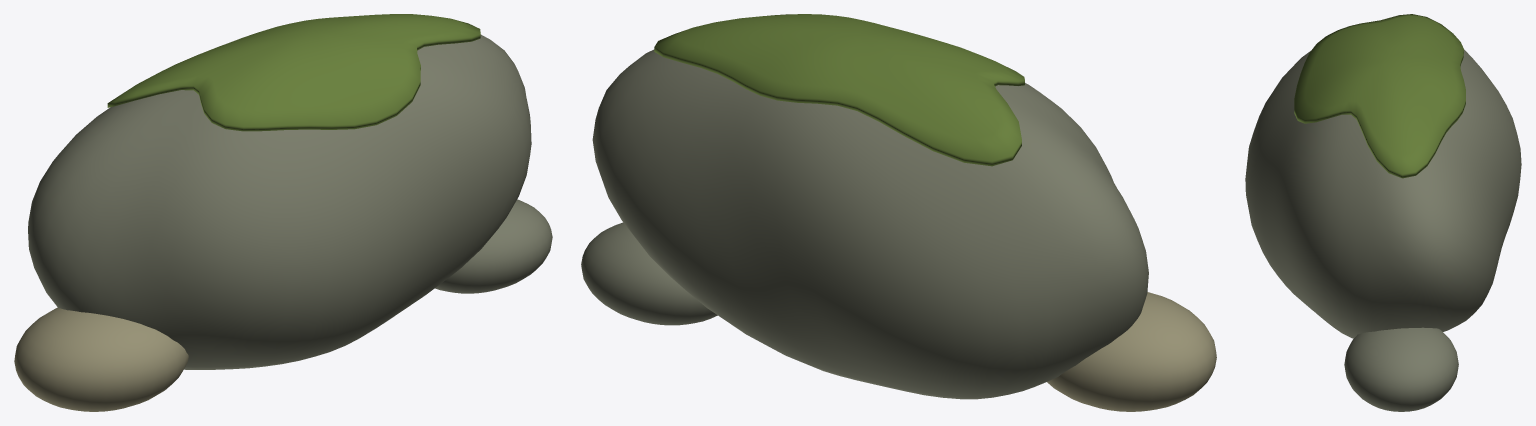
File: shore_rock.glb
3 views of the same model, side by side, from view 1: azimuth 30°, elevation 25°; view 2: azimuth 150°, elevation 25°; view 3: azimuth 270°, elevation 25° (orthographic). The views are drawn at different scales.
Visible parts, largest first — view 1: Stone, MossCap, Pebble_Left, Pebble_Right; view 2: Stone, MossCap, Pebble_Left, Pebble_Right; view 3: Stone, MossCap, Pebble_Right.
Part boxes in pixels (box(x1,y1,x2,y2)): Stone: box(28, 34, 531, 369); MossCap: box(107, 14, 480, 131); Pebble_Left: box(14, 307, 188, 411); Pebble_Right: box(435, 199, 552, 293); Stone: box(592, 49, 1148, 399); MossCap: box(654, 14, 1024, 166); Pebble_Left: box(1047, 292, 1216, 411); Pebble_Right: box(581, 222, 717, 325); Stone: box(1245, 49, 1521, 338); MossCap: box(1294, 14, 1465, 178); Pebble_Right: box(1344, 327, 1458, 411).
Bounding box in the file's own units: 2.69 × 1.4 × 1.3.
